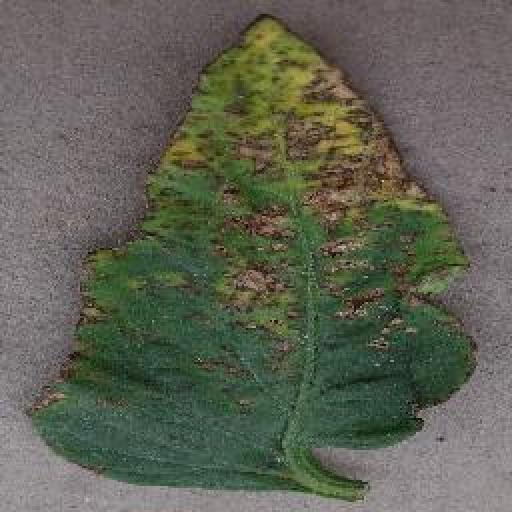Bacterial Spot: (24, 10, 481, 494)
